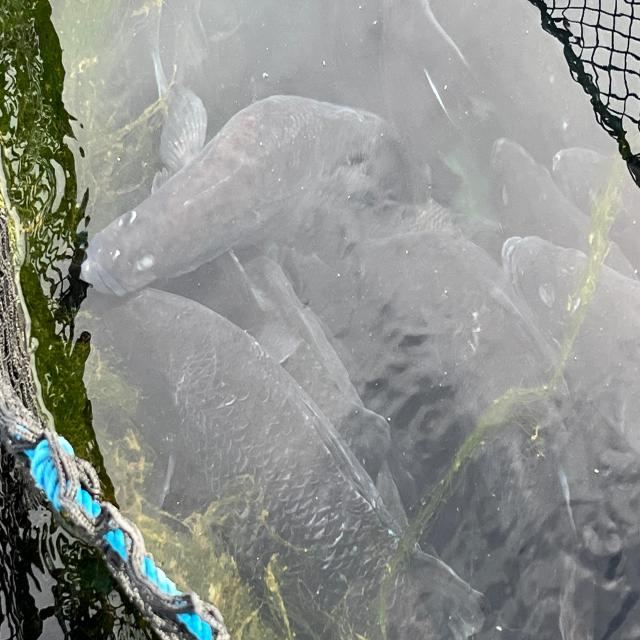ikan: (73, 282, 490, 638), (77, 52, 431, 300)
